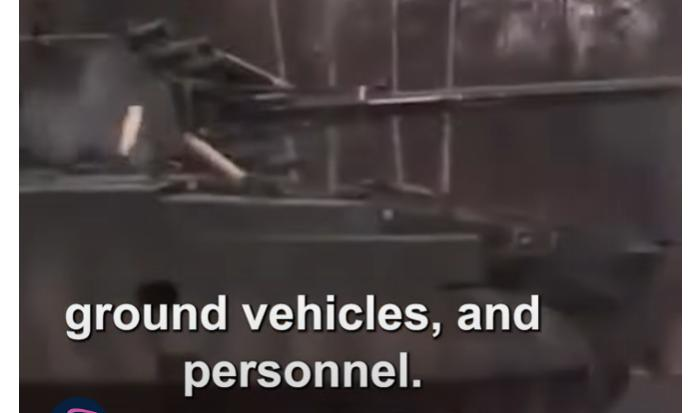MIL_SPG: (20, 22, 679, 411)
